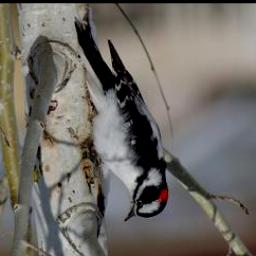Woodpecker: (72, 16, 167, 224)
